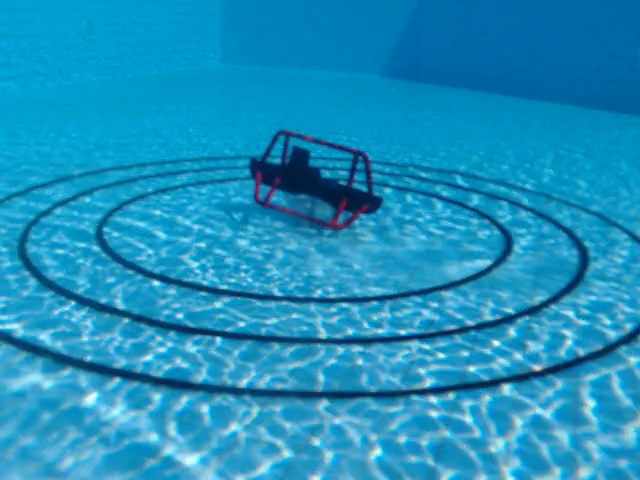submarine: (248, 127, 384, 231)
